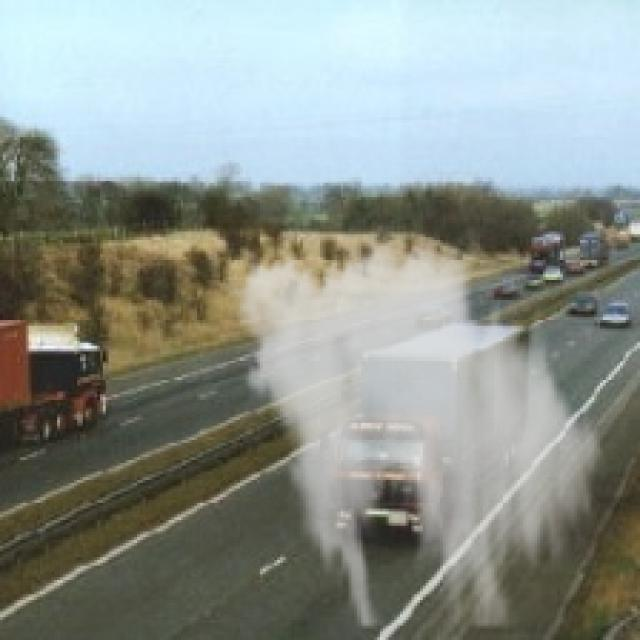Smoke: (217, 226, 614, 628)
